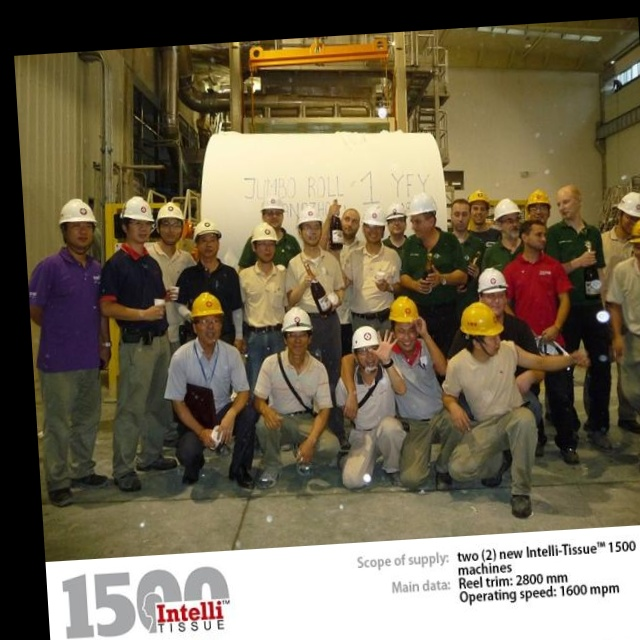Con_Casco: (56, 196, 100, 254), (387, 295, 422, 354), (191, 290, 226, 345), (119, 195, 153, 246)
Sin_Casco_Mascarrilla: (554, 184, 583, 223), (521, 219, 549, 255)
